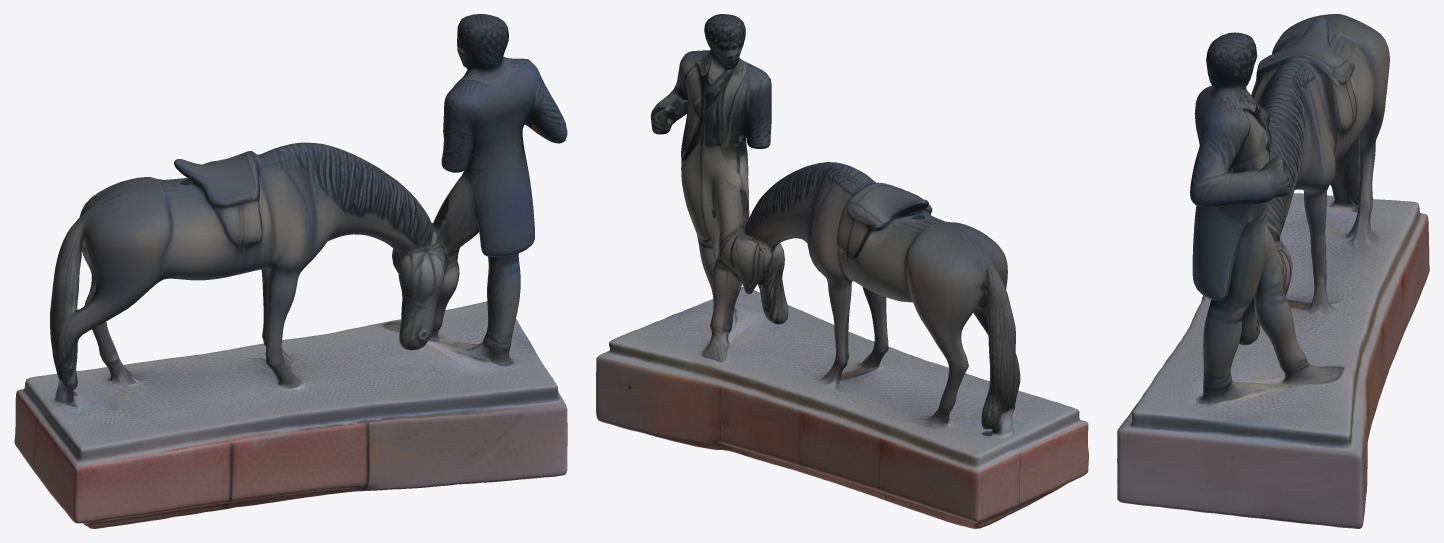
Rendered from Horse.fbx.
The picture shows the model from 3 angles, left to right: view 1: azimuth 30°, elevation 25°; view 2: azimuth 150°, elevation 25°; view 3: azimuth 270°, elevation 25°; orthographic projection. The views are drawn at different scales.
Parts seen in each view (by area): view 1: Horse; view 2: Horse; view 3: Horse.
Boxes of the visible parts, box(x1,y1,x2,y2) form: Horse: box(14, 14, 567, 528); Horse: box(596, 14, 1088, 528); Horse: box(1117, 14, 1429, 528).
Size of the model in its own units: 175 by 145 by 91.36.
Materials: 1 (1 with a texture image).
